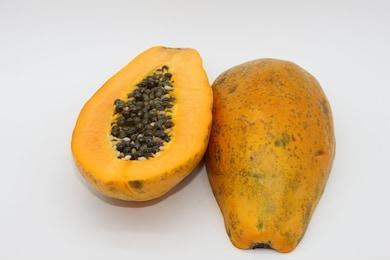papaya: (209, 57, 336, 253), (69, 45, 213, 207)
